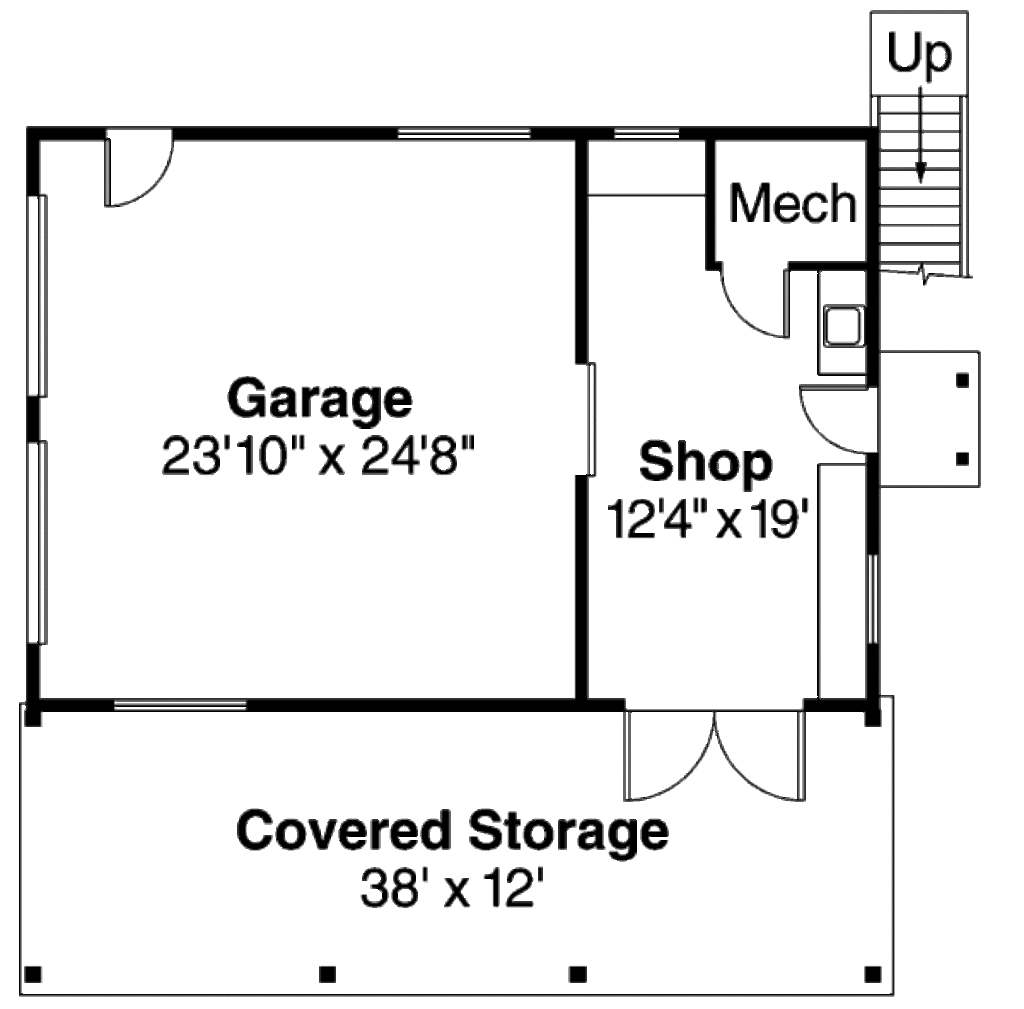door: (620, 703, 812, 807), (720, 255, 799, 357), (102, 126, 180, 220), (800, 378, 883, 464)
stairs: (860, 13, 989, 290)
window: (20, 192, 65, 398), (25, 441, 45, 644), (95, 693, 252, 718), (402, 123, 525, 144), (619, 120, 697, 152), (866, 555, 888, 641)
